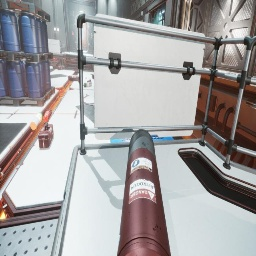0: (30, 112, 43, 130), (83, 82, 92, 88), (50, 66, 53, 70)
EmergencyPhone ,: (91, 32, 92, 38)
FireAlarm ,: (72, 32, 74, 35)
FireExtinguisher ]: (43, 109, 52, 123), (87, 79, 91, 82), (60, 51, 62, 54), (45, 121, 45, 121)
FirstAidBox ,: (38, 123, 54, 148), (78, 76, 79, 83), (15, 0, 22, 1)
NitrogenTank ,: (117, 129, 171, 256), (68, 75, 79, 81), (57, 65, 65, 70), (92, 74, 94, 79)
SafetySwitchPanel ,: (166, 26, 169, 27)
